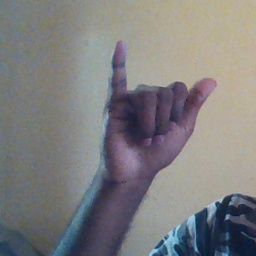J: (97, 37, 219, 178)
